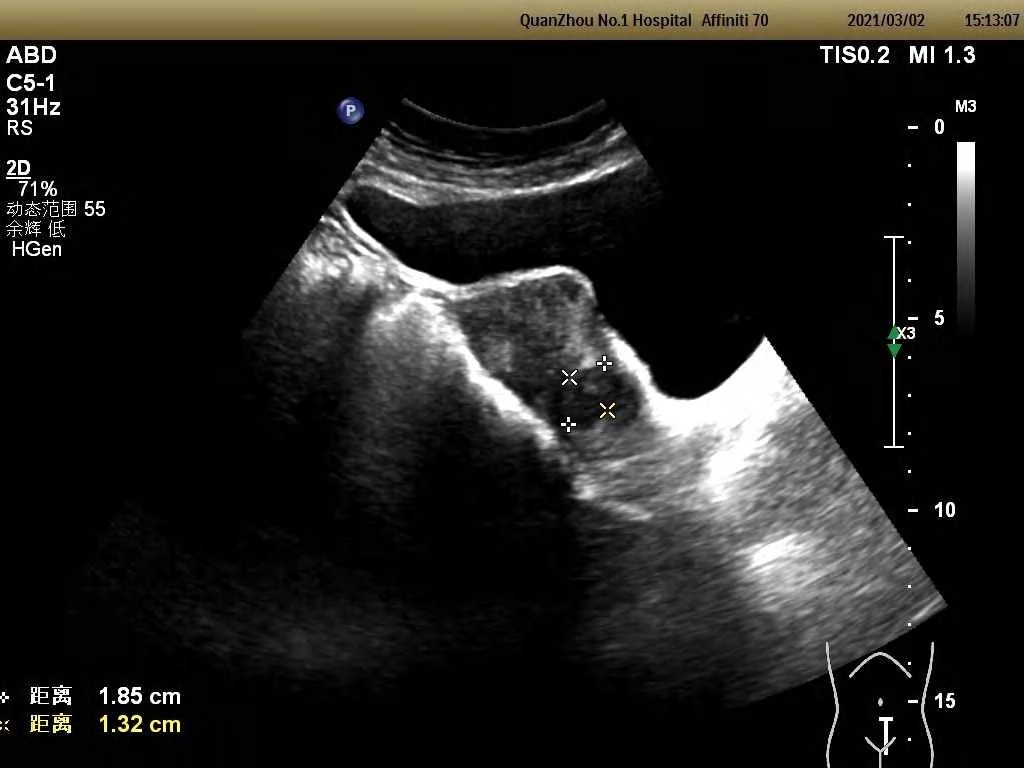肌瘤: (564, 375, 609, 428)
